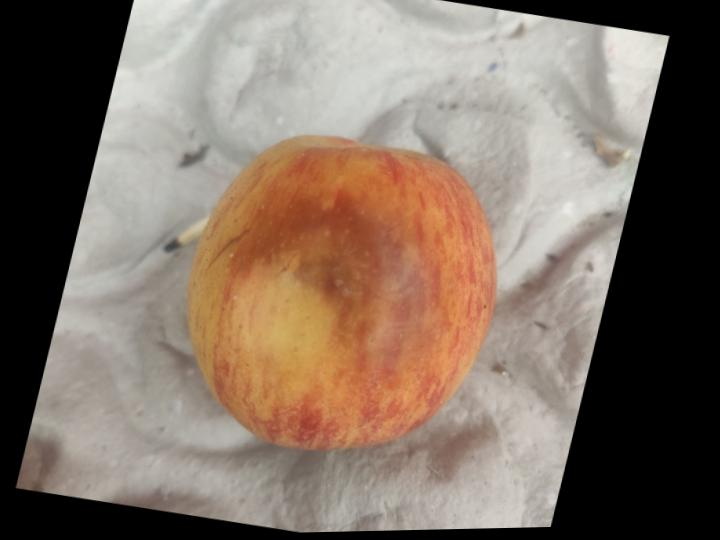apple: (187, 136, 495, 449)
bruise_discoloration: (226, 188, 439, 372)
surface_damage: (204, 230, 247, 275)
